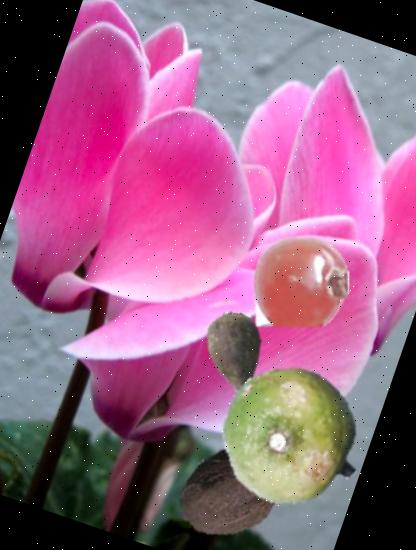Beetroot: (176, 294, 298, 417)
Cocos: (162, 423, 299, 550)
Limes: (200, 348, 380, 526)
Redcurrant: (241, 221, 362, 342)
